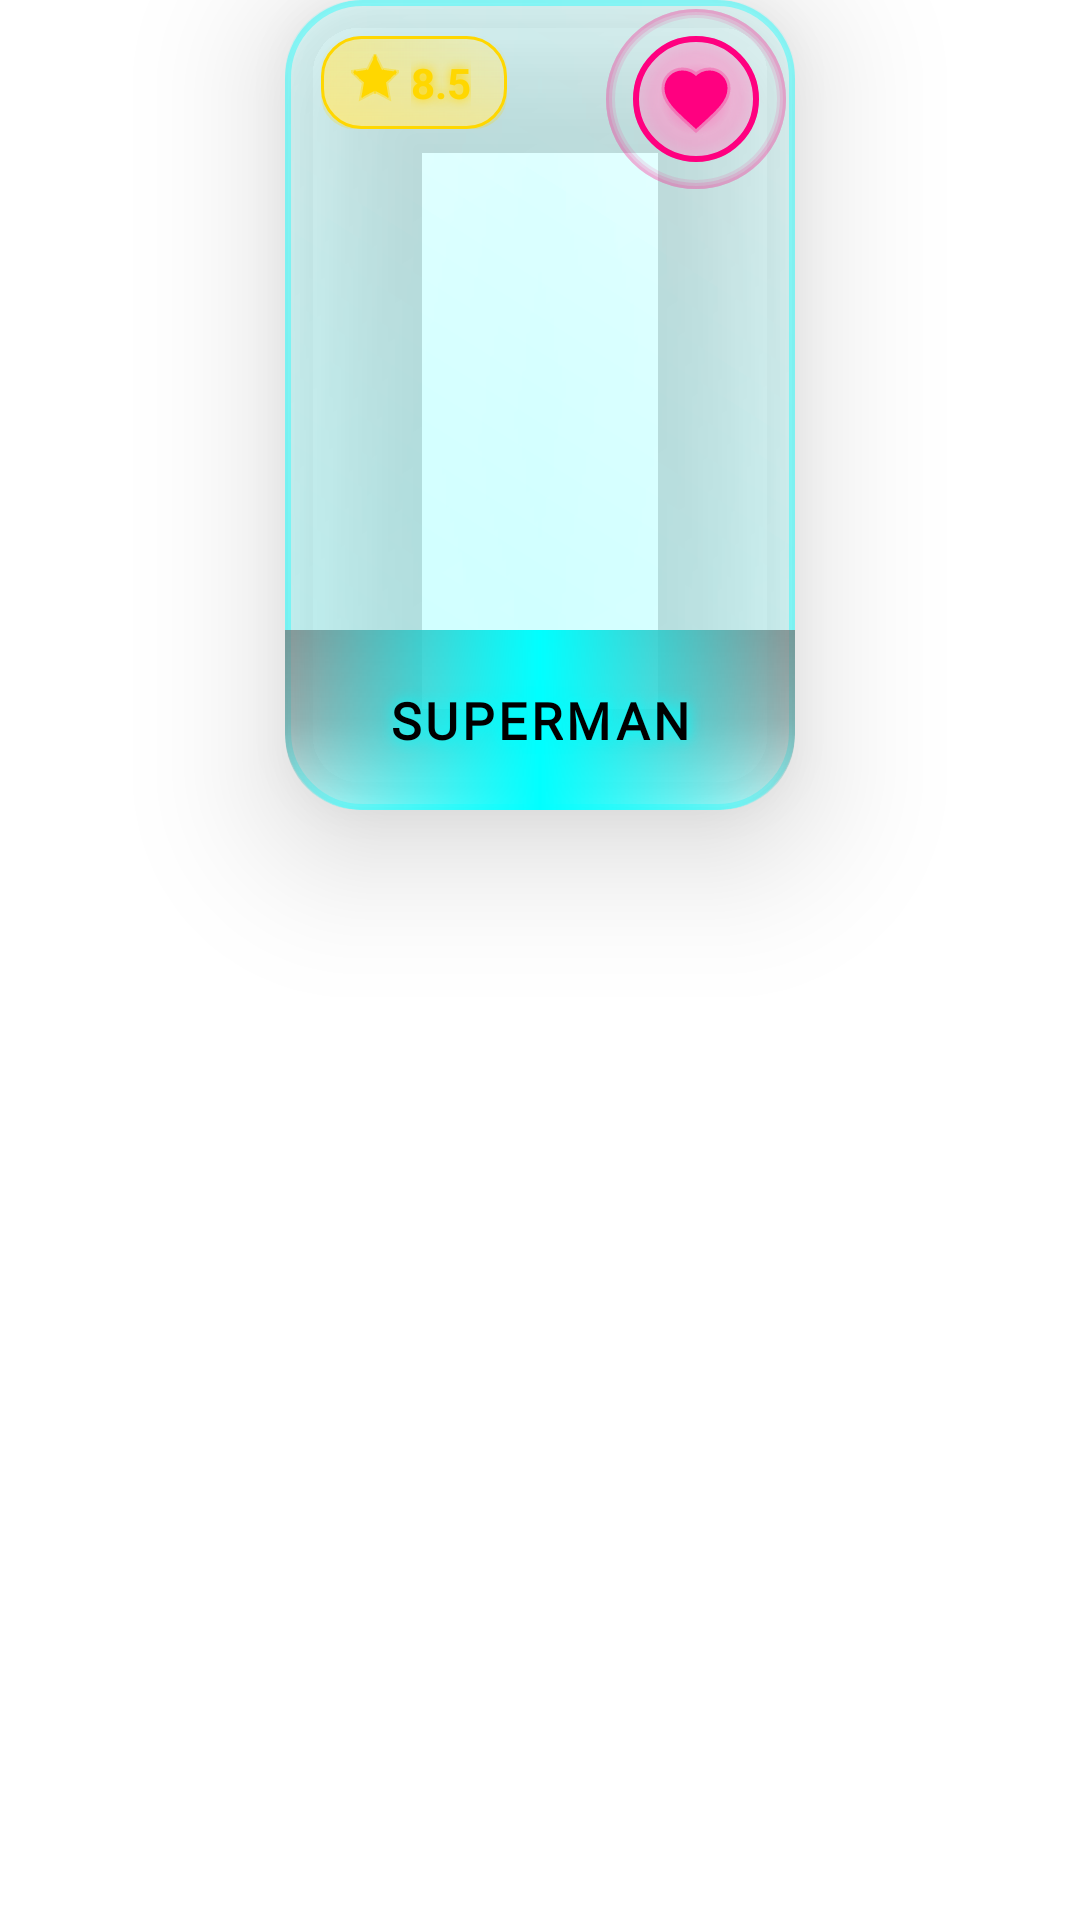

Icon click points for this 1080×1920 phone screenshot, format (x,y):
star neon: (375,77)
